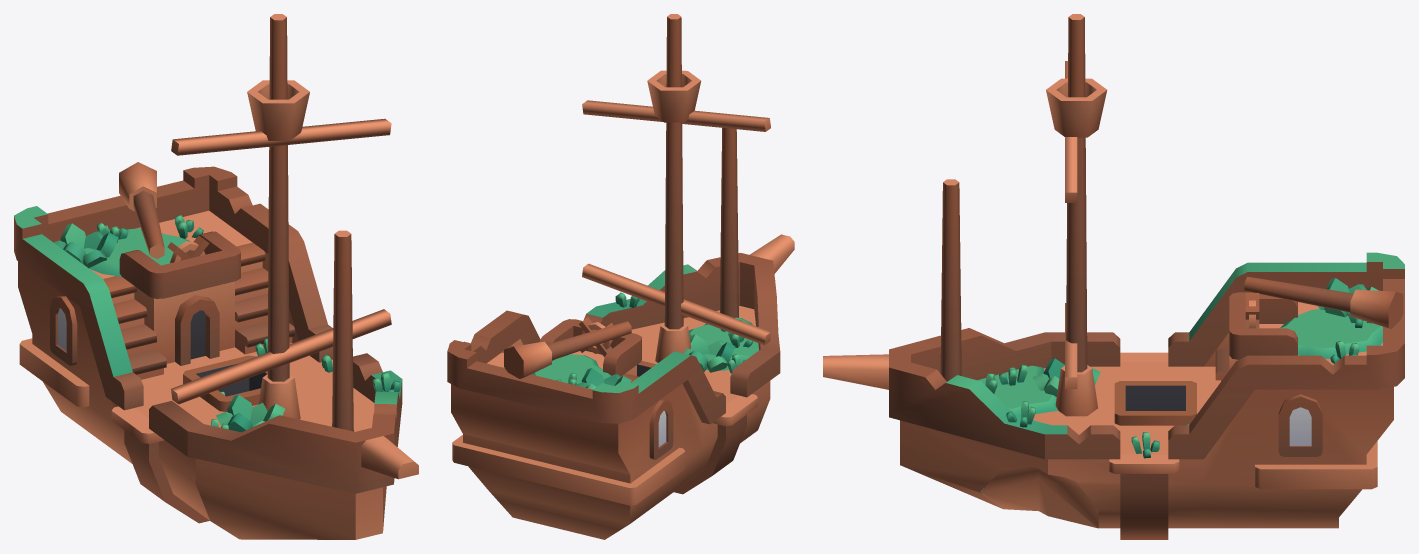
File: skeppsvrak.glb
3 views of the same model, side by side, from view 1: azimuth 30°, elevation 25°; view 2: azimuth 150°, elevation 25°; view 3: azimuth 270°, elevation 25° (orthographic). The views are drawn at different scales.
Parts seen in each view (by area): view 1: ship-wreck, sail-a, Group (×4); view 2: ship-wreck, Group (×5), sail-a; view 3: ship-wreck, Group (×4), sail-a.
Boxes of the visible parts, x1=… form: ship-wreck: x1=14, y1=14, x2=418, y2=539; sail-a: x1=171, y1=118, x2=391, y2=404; Group (×4): x1=54, y1=162, x2=284, y2=432; ship-wreck: x1=447, y1=14, x2=794, y2=539; Group (×5): x1=504, y1=317, x2=758, y2=389; sail-a: x1=582, y1=100, x2=771, y2=345; ship-wreck: x1=823, y1=14, x2=1404, y2=539; Group (×4): x1=977, y1=276, x2=1403, y2=416; sail-a: x1=1065, y1=61, x2=1077, y2=388.
Size of the model in its own units: 4.8 by 9.96 by 10.6.
Materials: 1 (1 with a texture image).
